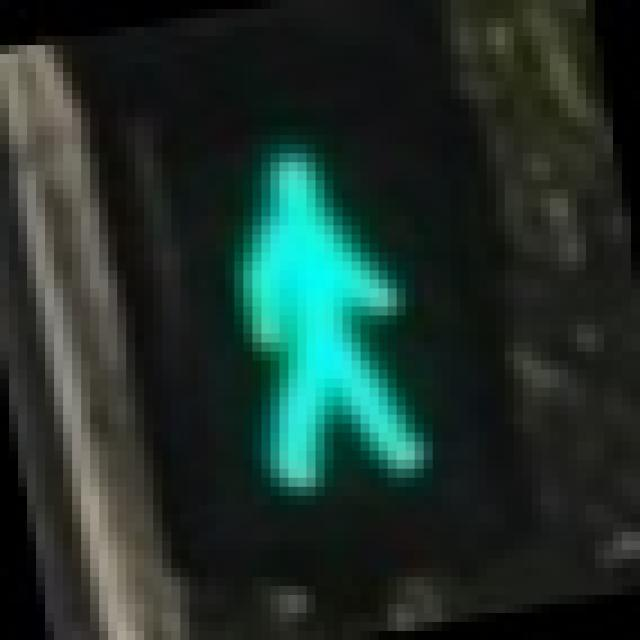geen-crossing: (108, 72, 504, 541)
